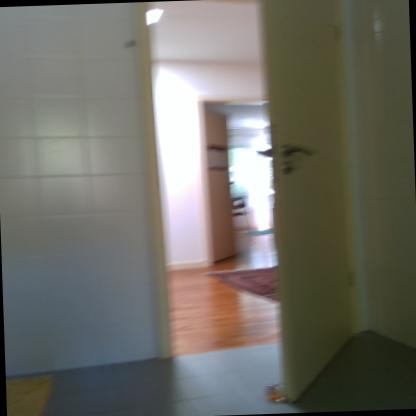semi: (129, 0, 363, 416)
